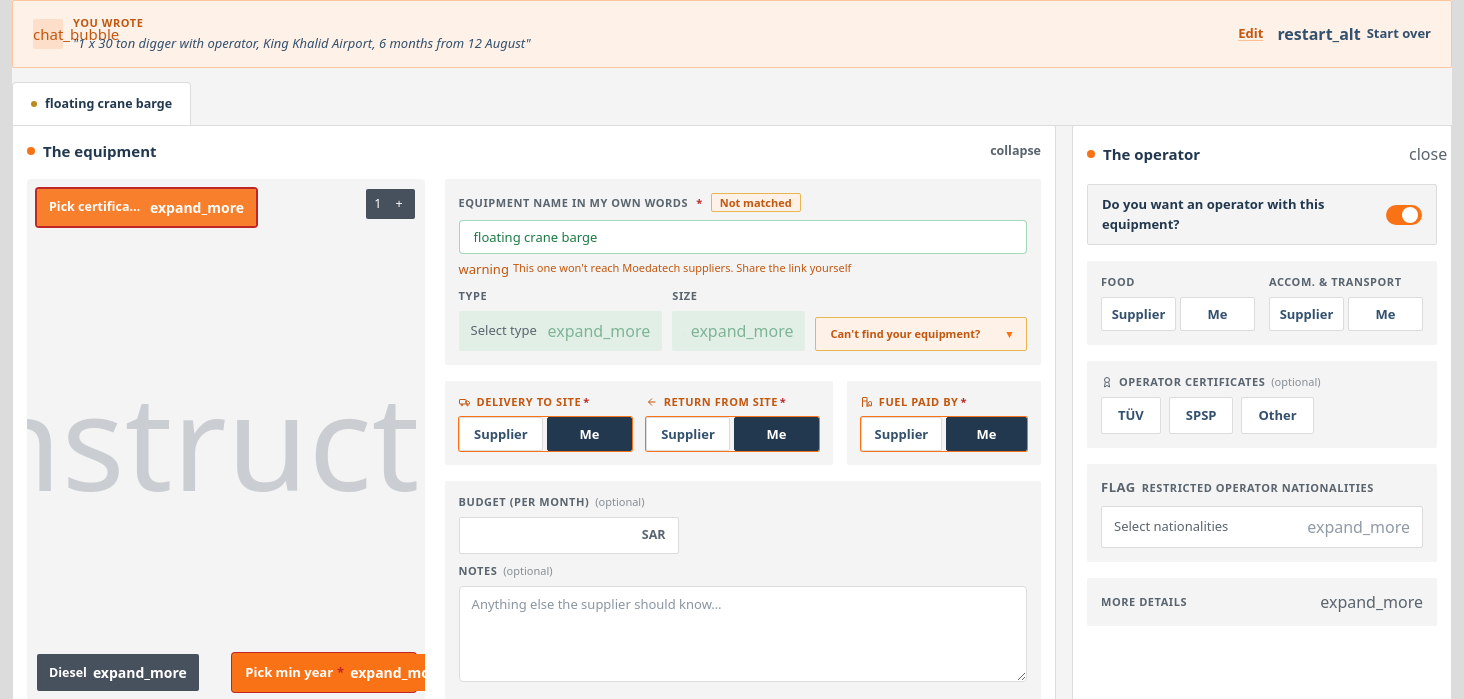
it: the escape, and the panel behind it › asks for the SIZE on the row rather than choosing one for him
The image size is (1464, 699).
Click the button "Can't find your equipment? ▾" at (921, 334), box [816,317,1027,351]
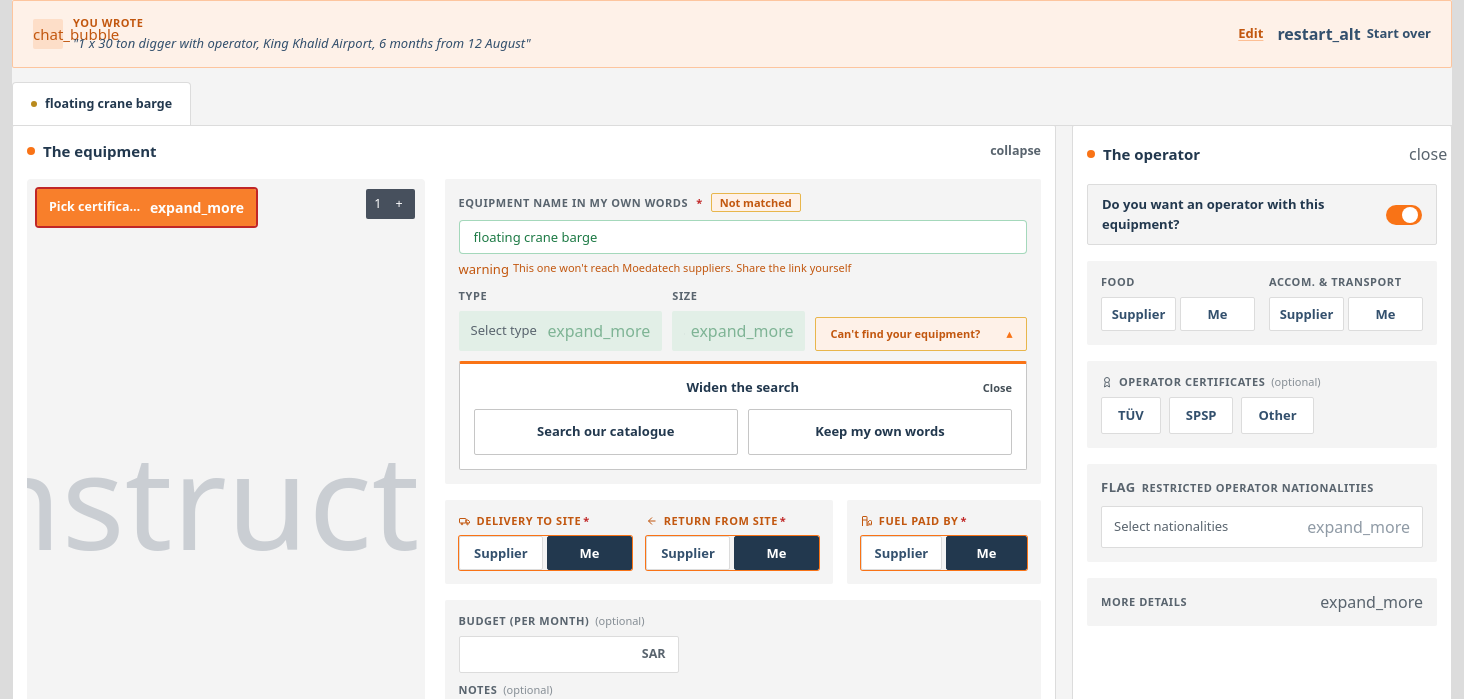
Click the button "Search our catalogue" at (606, 432), box [474,409,738,455]
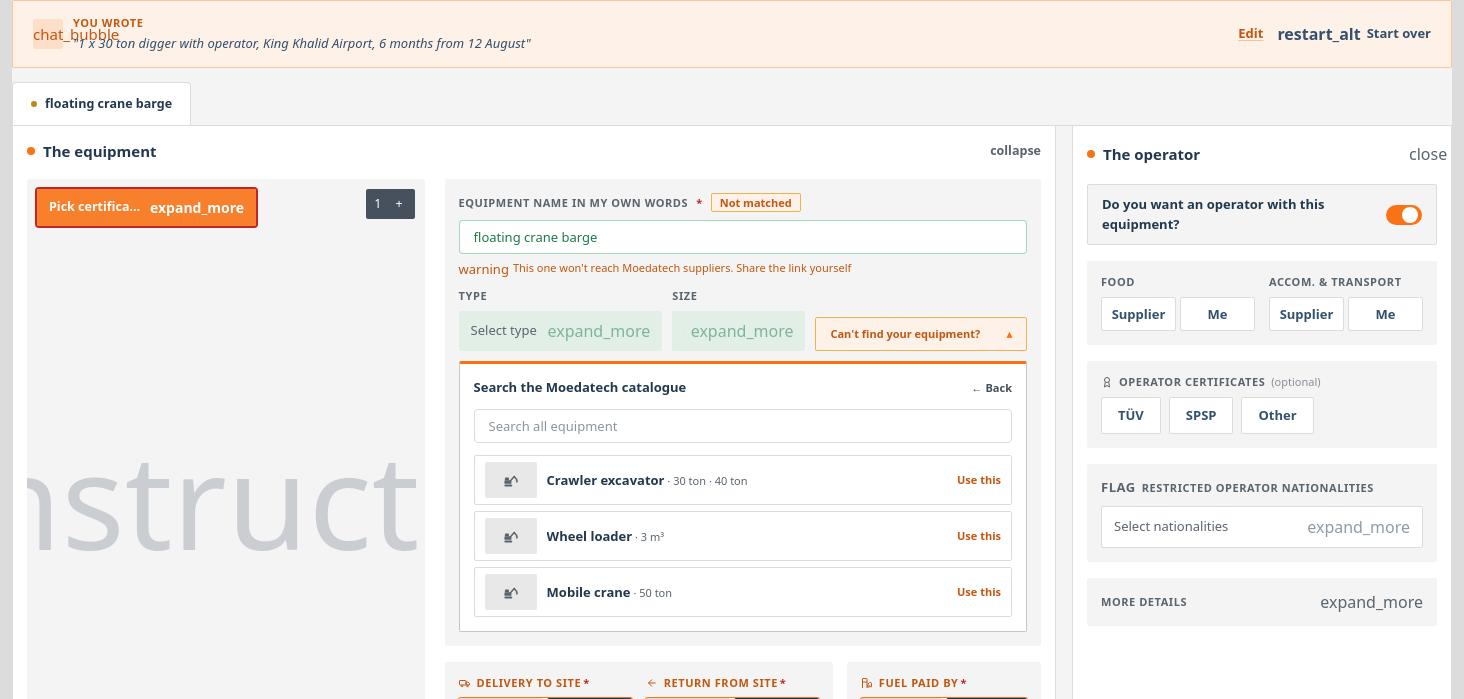
Click the button "Crawler excavator · 30 ton · 40 ton Use this" at (743, 480), box [475,456,1011,504]
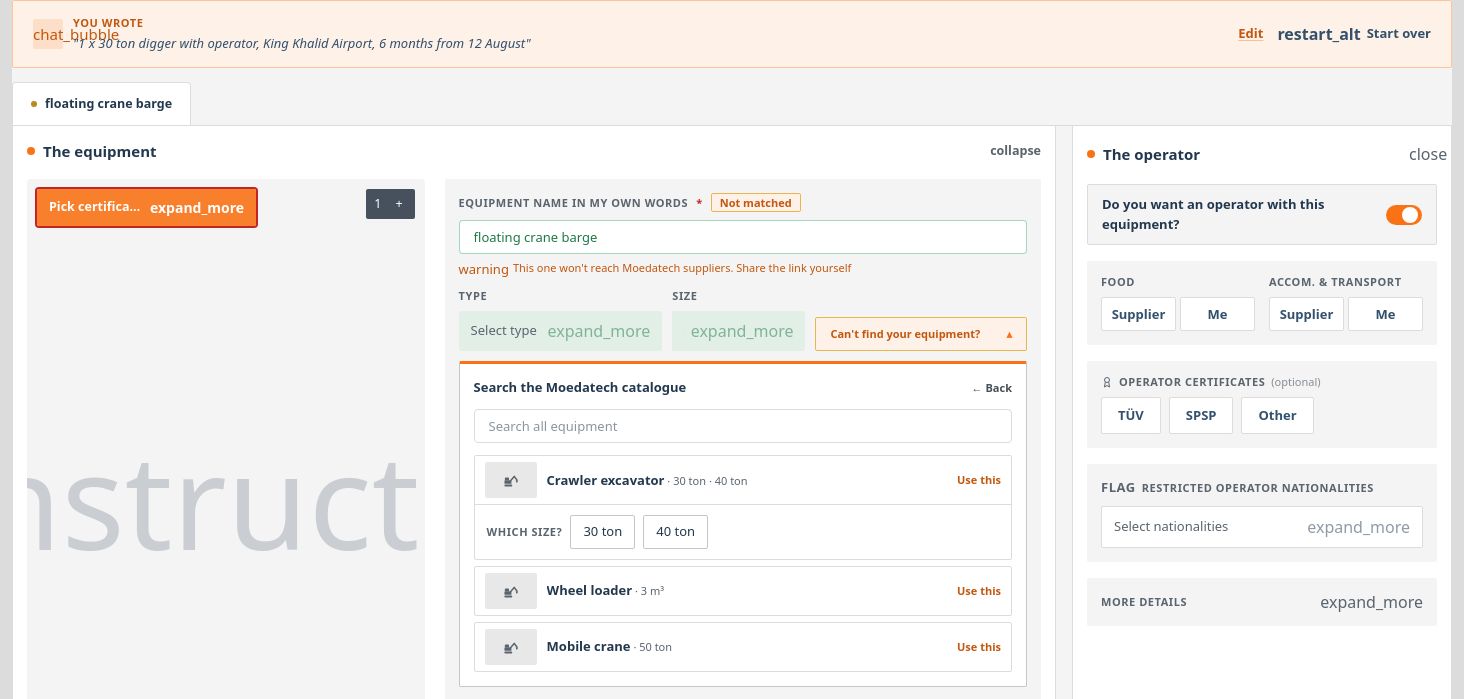
Check: the text "WHICH SIZE?" is shown, box [487,524,562,540]
